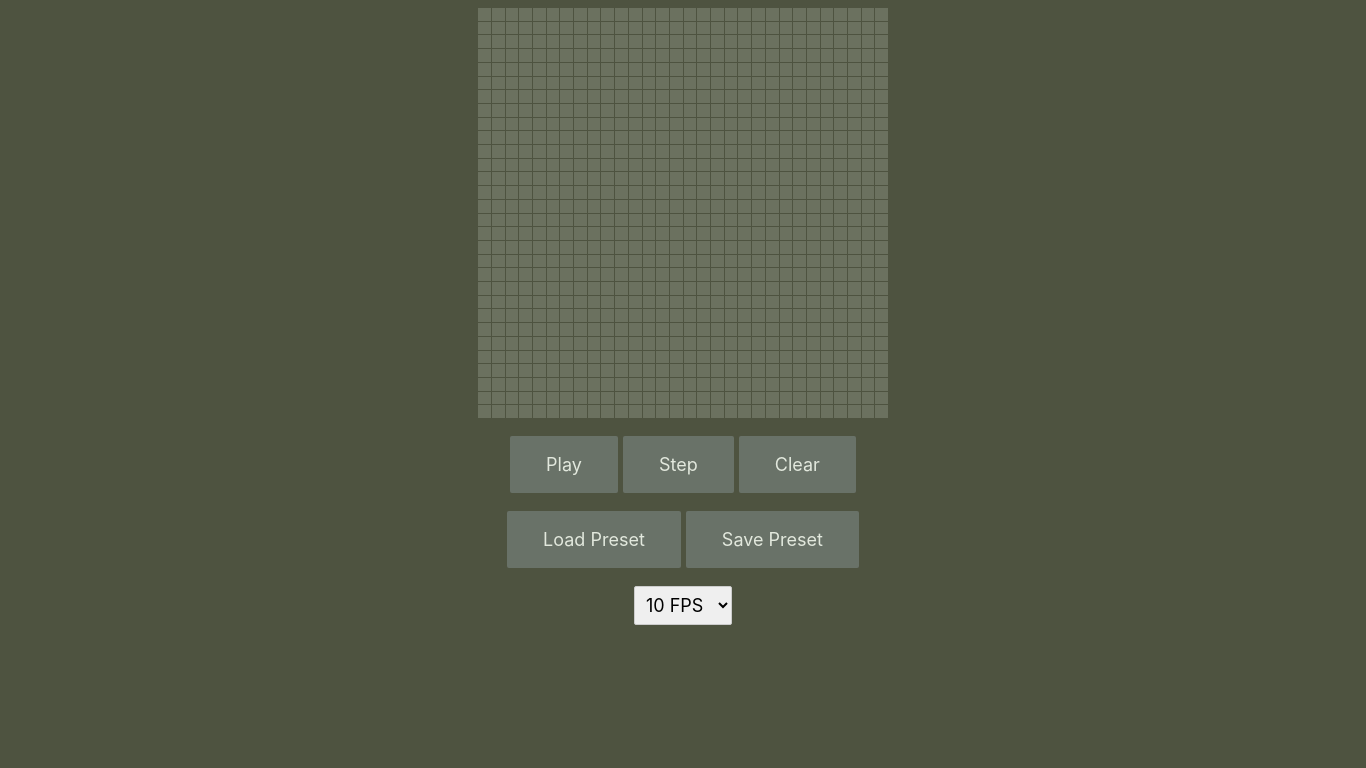
it: Presets › Presets Panel › can be closed
What coordinates should you click on to do the following:
click the button with test id ".actions > [data-cy=\"preset:load\"]"
I would click on:
 (594, 540)
Its box is left=507, top=511, right=681, bottom=568.
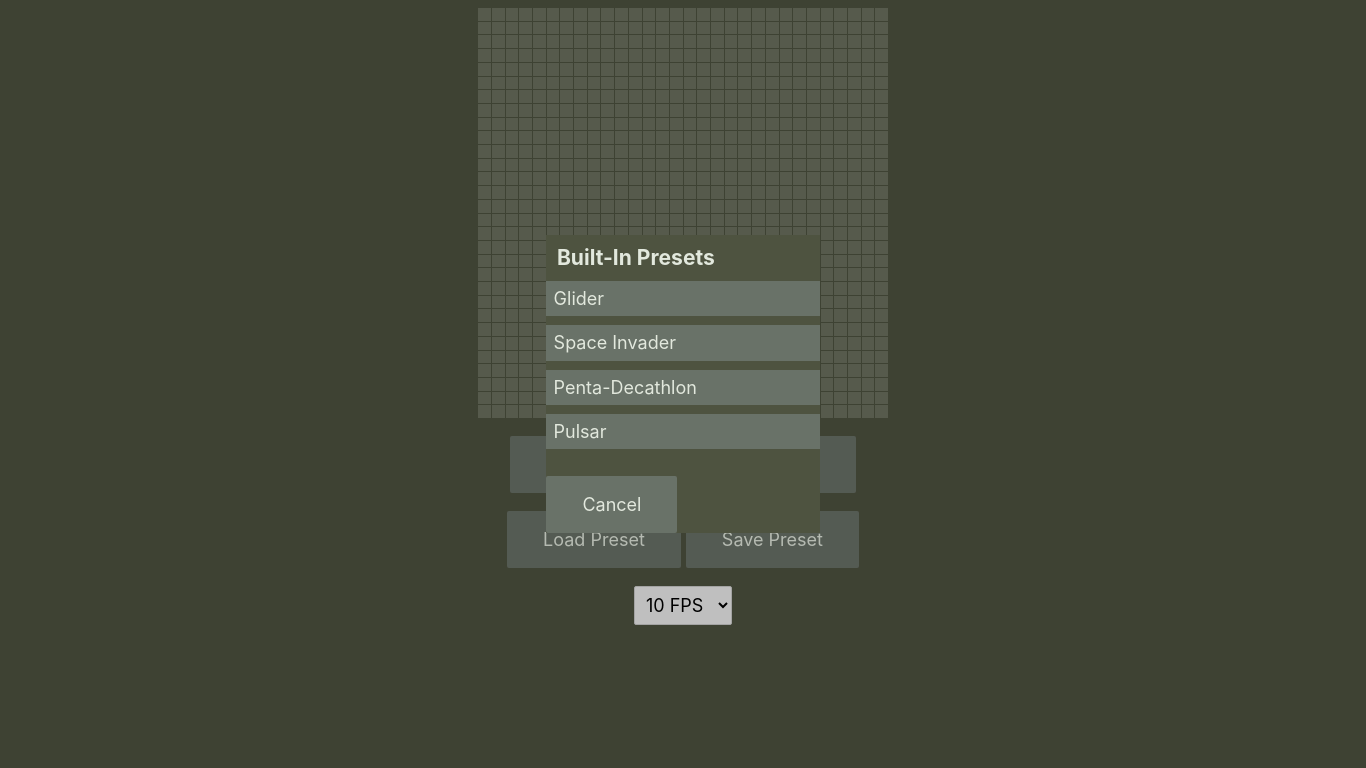
What coordinates should you click on to do the following:
click the button with test id ".actions > [data-cy=\"preset:cancel\"]"
I would click on:
 (612, 505)
Its box is left=546, top=476, right=677, bottom=533.
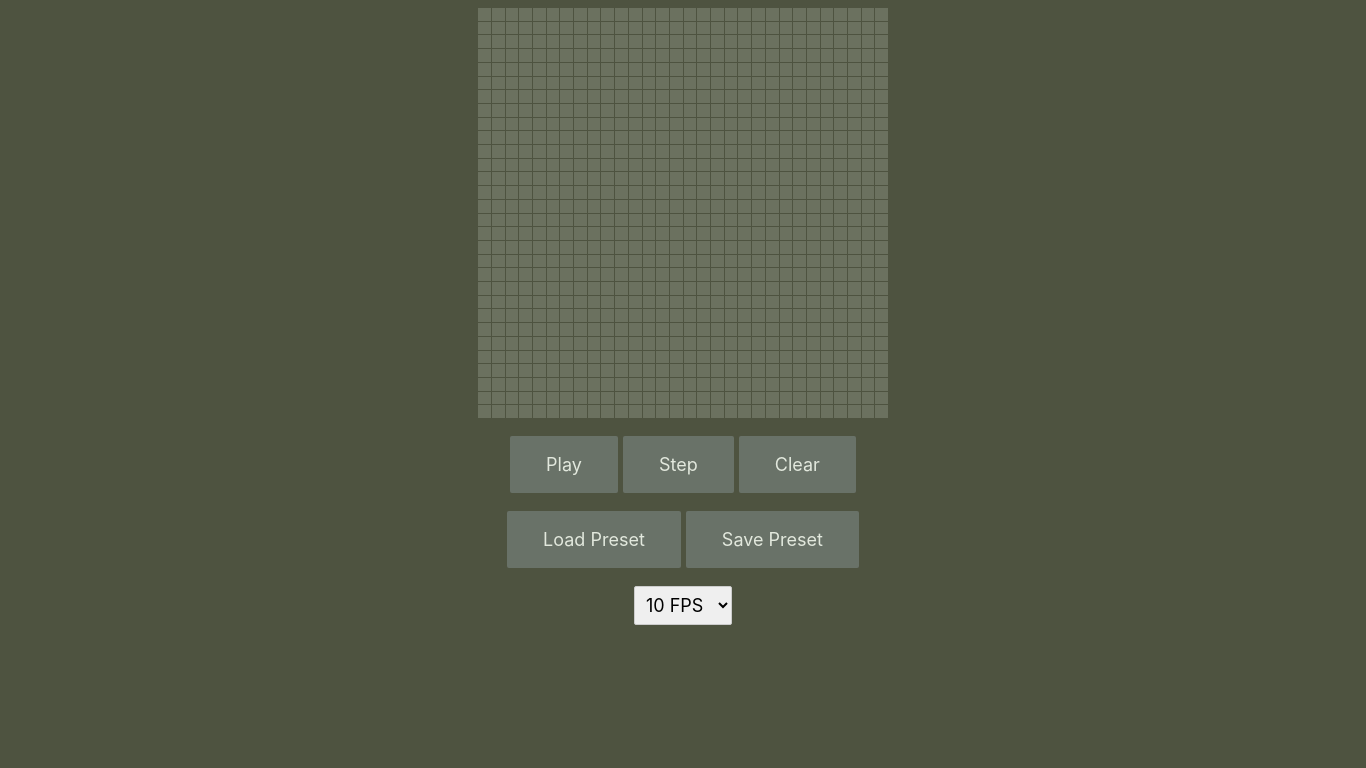
Check: the element with test id "preset:picker" is gone
